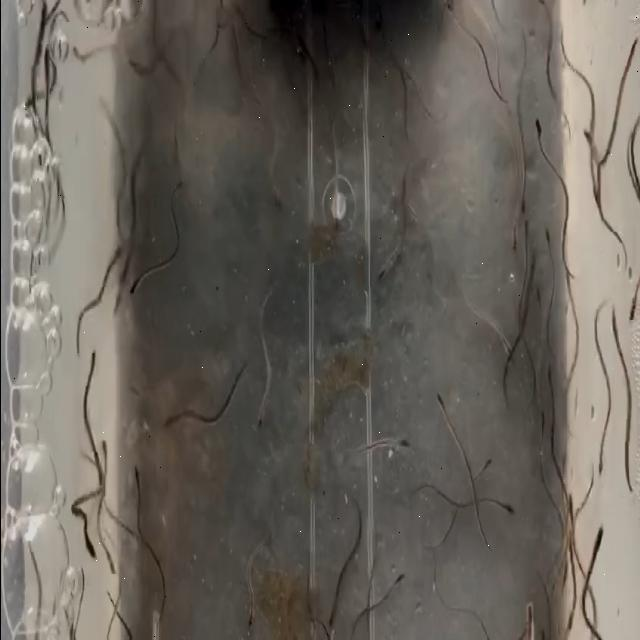active_glass_eel: (588, 524, 608, 590), (373, 244, 402, 284), (500, 210, 520, 266), (488, 478, 515, 518), (604, 310, 626, 356), (101, 542, 123, 588), (40, 38, 58, 92), (512, 172, 532, 220), (530, 113, 550, 159), (80, 513, 96, 569), (157, 410, 183, 444), (110, 233, 138, 263), (624, 283, 640, 334), (125, 56, 152, 86), (500, 324, 516, 374), (433, 385, 453, 425), (127, 456, 143, 506), (238, 598, 260, 634), (534, 407, 548, 463), (390, 433, 416, 463), (593, 432, 611, 474), (540, 218, 554, 272), (524, 594, 540, 640), (385, 569, 410, 598), (542, 360, 558, 404), (34, 0, 54, 33), (559, 549, 573, 595), (252, 389, 266, 435), (127, 266, 147, 298), (582, 114, 594, 166), (628, 25, 640, 76), (564, 606, 582, 640), (474, 453, 498, 478), (529, 277, 543, 319), (564, 490, 578, 529), (68, 40, 90, 64), (110, 278, 122, 320), (443, 0, 460, 20)
